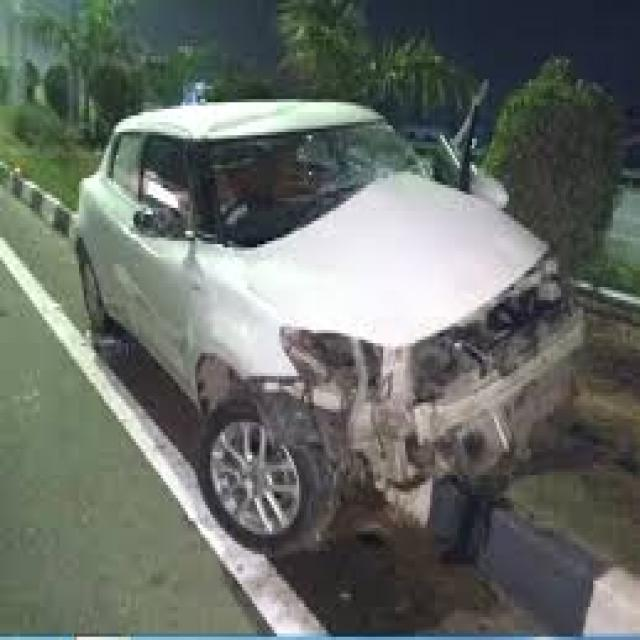accident: (44, 82, 588, 562)
